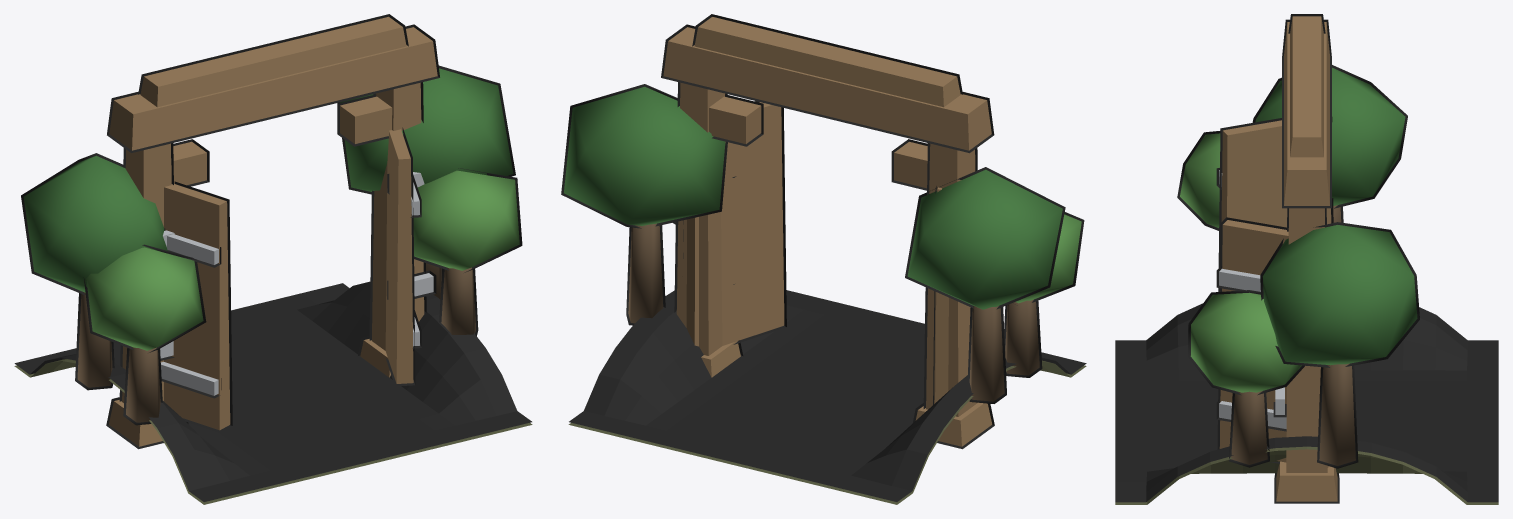
File: td_spawner_gate.fbx
3 renders of one model, left to right at view 1: azimuth 30°, elevation 25°; view 2: azimuth 150°, elevation 25°; view 3: azimuth 270°, elevation 25°, orthographic.
Parts seen in each view (by area): view 1: Forest_Gate; view 2: Forest_Gate; view 3: Forest_Gate.
Part boxes in pixels (x1,y1,x2,y2): Forest_Gate: [14, 14, 532, 504]; Forest_Gate: [561, 14, 1086, 504]; Forest_Gate: [1115, 14, 1498, 504].
Bounding box in the file's own units: 289 × 204 × 200.
